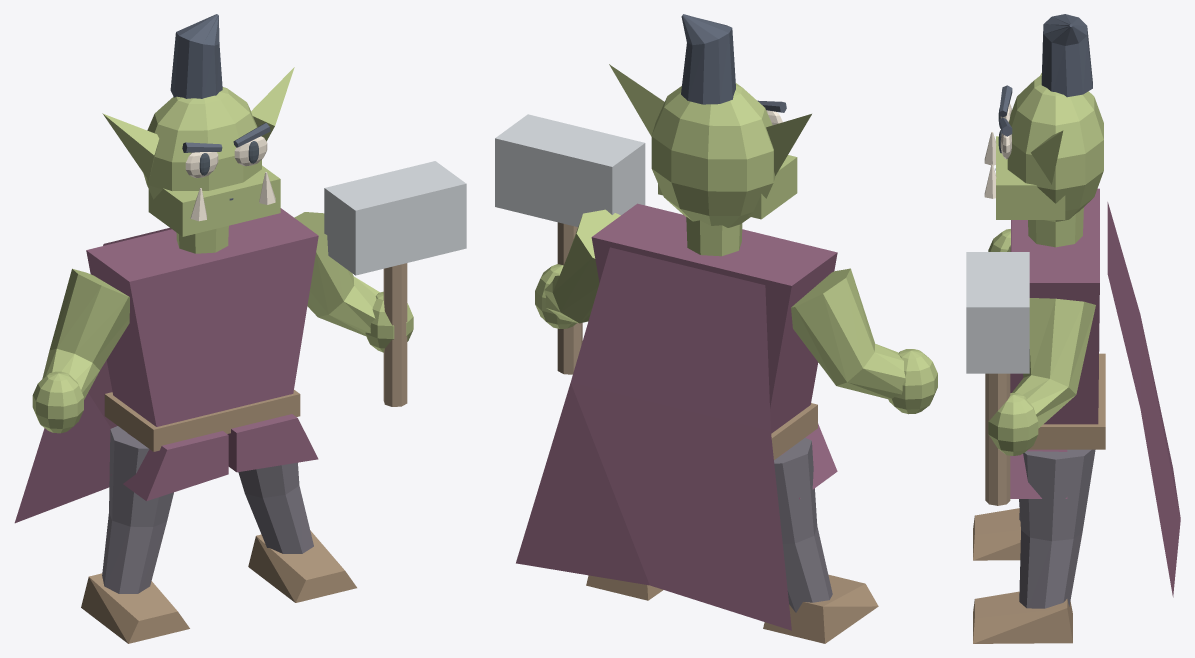
Rendered from chieftain.glb.
3 views of the same model, side by side, from view 1: azimuth 30°, elevation 25°; view 2: azimuth 150°, elevation 25°; view 3: azimuth 270°, elevation 25° (orthographic). The views are drawn at different scales.
Parts seen in each view (by area): view 1: torso, hammer_head, head, cape, leg_-1, arm_-1, jaw, leg_1, belt, tunic_hem_-1, arm_1, foot_-1 (+9 smaller); view 2: cape, torso, head, hammer_head, arm_-1, leg_-1, topknot, arm_1, foot_-1, hand_-1, hammer_handle, neck (+7 smaller); view 3: leg_1, head, torso, hammer_head, cape, arm_1, foot_1, topknot, jaw, hammer_handle, belt, foot_-1 (+5 smaller).
Boxes of the visible parts, bbox=[...] form: torso: bbox=[86, 208, 318, 426]; hammer_head: bbox=[324, 161, 466, 275]; head: bbox=[143, 87, 261, 199]; cape: bbox=[14, 228, 171, 523]; leg_-1: bbox=[102, 426, 173, 593]; arm_-1: bbox=[42, 268, 129, 399]; jaw: bbox=[148, 165, 280, 236]; leg_1: bbox=[238, 462, 313, 553]; belt: bbox=[104, 390, 300, 451]; tunic_hem_-1: bbox=[111, 431, 228, 501]; arm_1: bbox=[294, 212, 379, 336]; foot_-1: bbox=[81, 573, 189, 643]; cape: bbox=[516, 247, 791, 630]; torso: bbox=[591, 203, 837, 433]; head: bbox=[651, 83, 775, 227]; hammer_head: bbox=[495, 114, 645, 226]; arm_-1: bbox=[791, 268, 905, 399]; leg_-1: bbox=[774, 437, 832, 612]; topknot: bbox=[681, 14, 735, 104]; arm_1: bbox=[544, 209, 620, 323]; foot_-1: bbox=[763, 574, 878, 643]; hand_-1: bbox=[888, 349, 937, 414]; hammer_handle: bbox=[557, 222, 582, 374]; neck: bbox=[686, 217, 742, 256]; leg_1: bbox=[1019, 449, 1095, 608]; head: bbox=[1007, 74, 1103, 221]; torso: bbox=[1010, 188, 1099, 424]; hammer_head: bbox=[966, 252, 1029, 373]; cape: bbox=[1107, 202, 1180, 597]; arm_1: bbox=[1012, 298, 1095, 428]; foot_1: bbox=[973, 591, 1072, 643]; topknot: bbox=[1041, 14, 1092, 97]; jaw: bbox=[996, 136, 1065, 219]; hammer_handle: bbox=[985, 373, 1010, 505]; belt: bbox=[1029, 353, 1105, 449]; foot_-1: bbox=[973, 508, 1020, 560].
Size of the model in its own units: 1.59 by 2.1 by 0.712.
